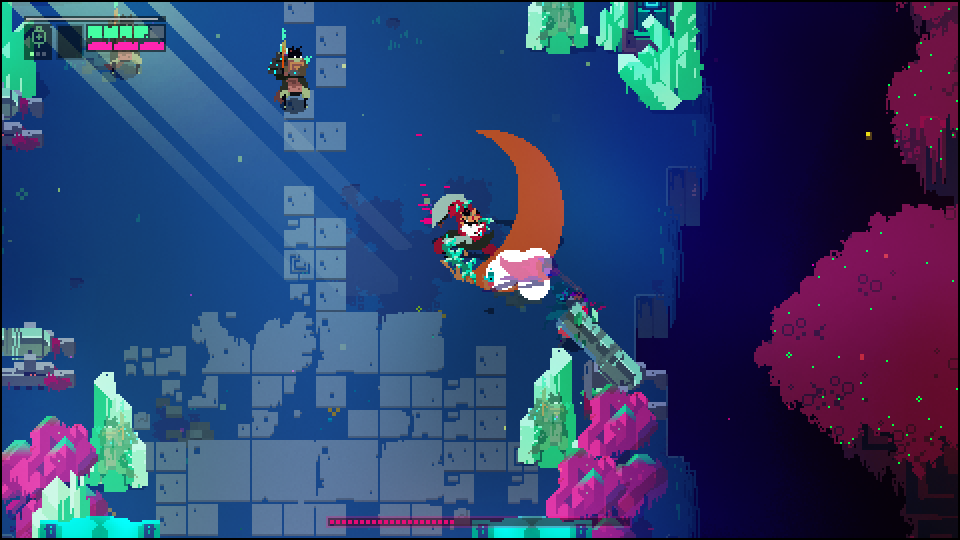hanged_man: (423, 183, 531, 300)
